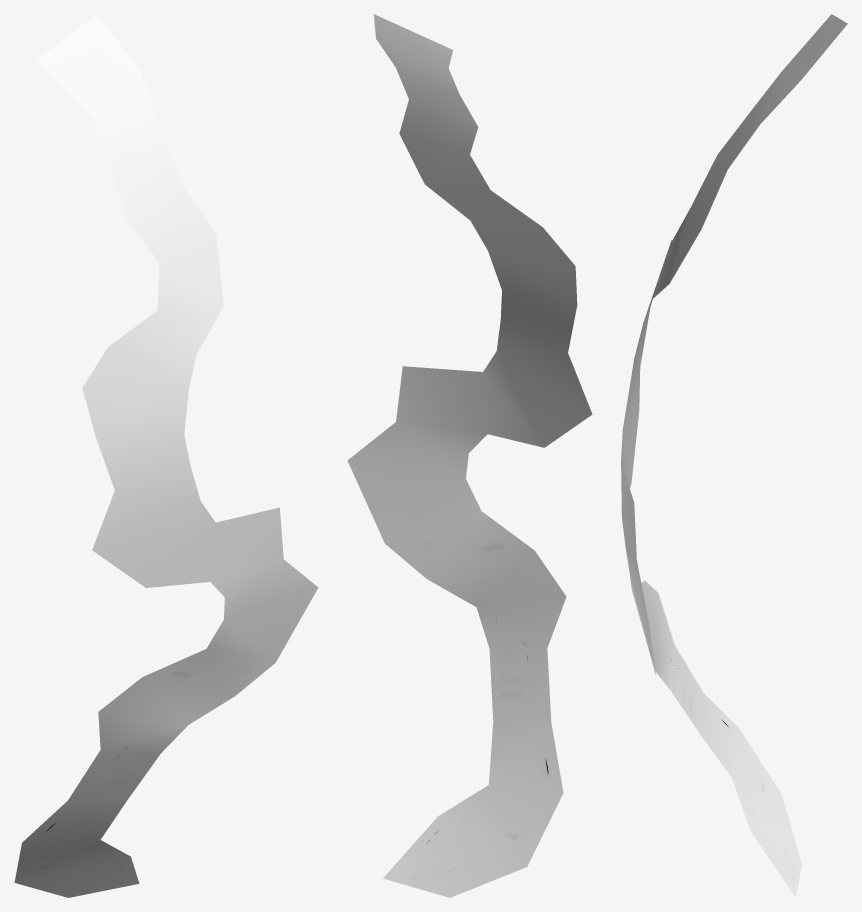
Rendered from lightningMesh.fbx.
3 renders of one model, left to right at view 1: azimuth 30°, elevation 25°; view 2: azimuth 150°, elevation 25°; view 3: azimuth 270°, elevation 25°, orthographic. The views are drawn at different scales.
Visible parts, largest first — view 1: nurbsToPoly1; view 2: nurbsToPoly1; view 3: nurbsToPoly1.
Part boxes in pixels (<box>): nurbsToPoly1: <box>14,14,318,897</box>; nurbsToPoly1: <box>347,14,592,897</box>; nurbsToPoly1: <box>621,14,847,897</box>.
Bounding box in the file's own units: 1.92 × 6.21 × 1.48.
Materials: 1 (1 with a texture image).
